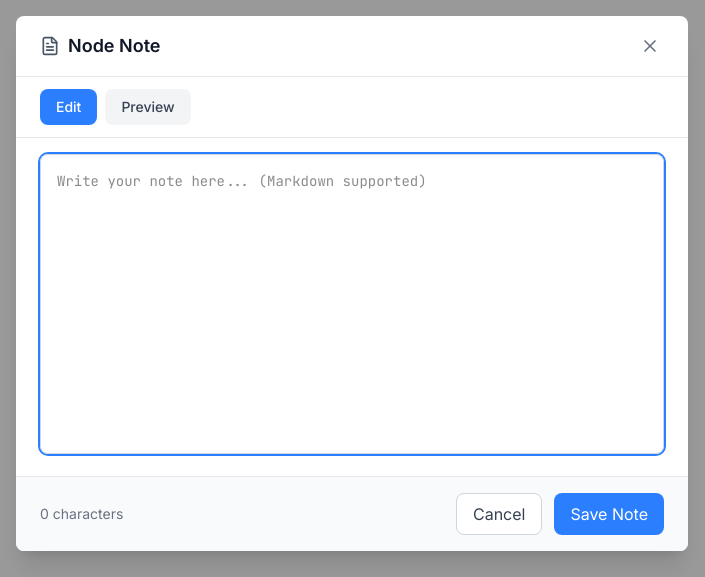
Test: NodeNoteEditor › displays character count
Step 1. Type "Hello" into the text box with placeholder "Write your note here... (Markdown supported)" → (352,304), box [40,154,664,454]
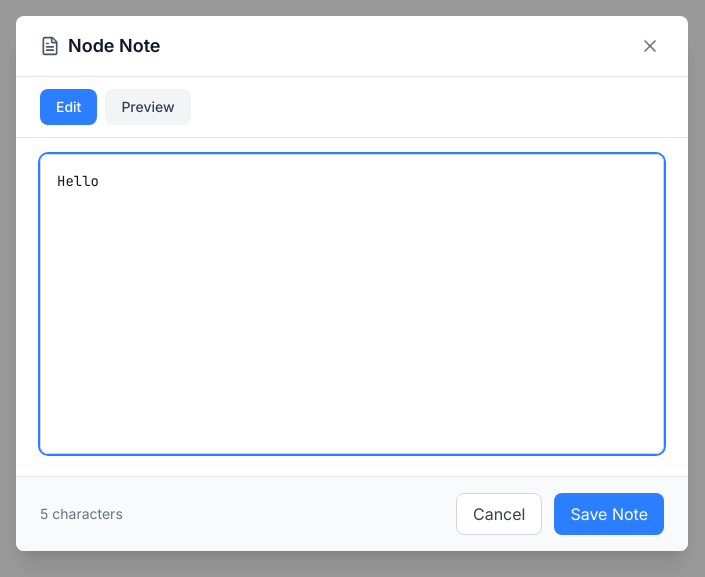
Expected: the text "5 characters" is shown, [40,504,123,524]
